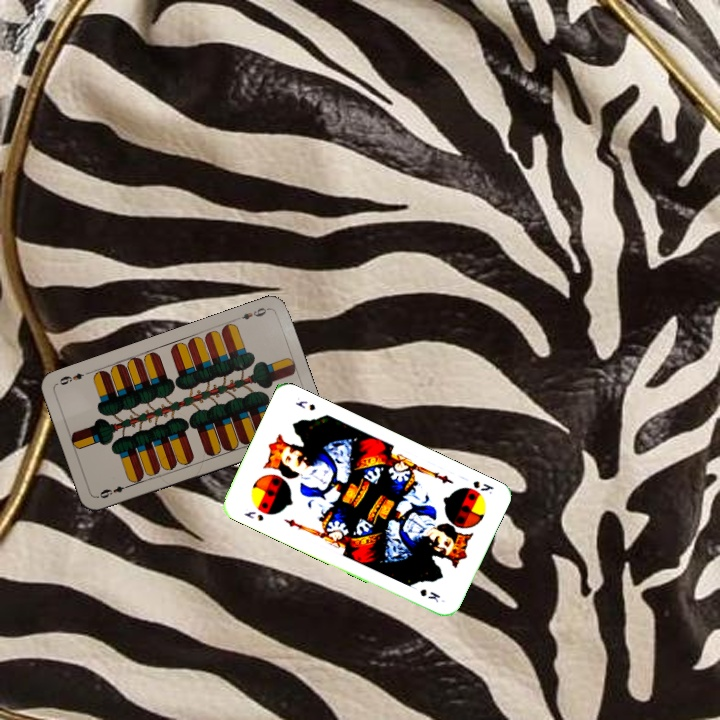E9: (232, 303, 271, 323), (96, 480, 133, 501)
SK: (469, 476, 496, 497), (240, 507, 266, 524)
